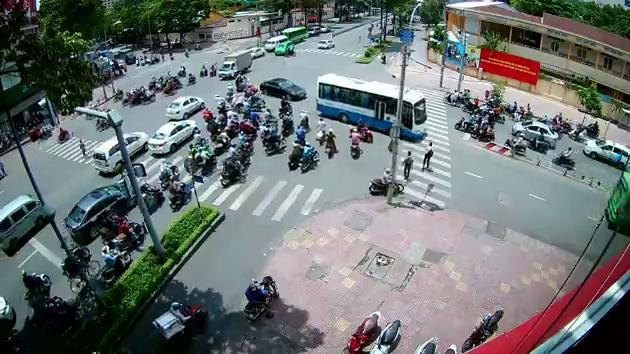xe buyt: (315, 71, 427, 138)
xe hoi: (62, 182, 132, 238), (90, 131, 148, 173), (146, 118, 200, 154), (582, 137, 629, 169), (509, 120, 557, 147), (257, 75, 306, 100), (165, 94, 205, 120)
xe may: (367, 166, 403, 195), (298, 142, 320, 172), (348, 128, 360, 159)
xe tai: (216, 49, 253, 77)
xe van: (0, 193, 46, 249)
